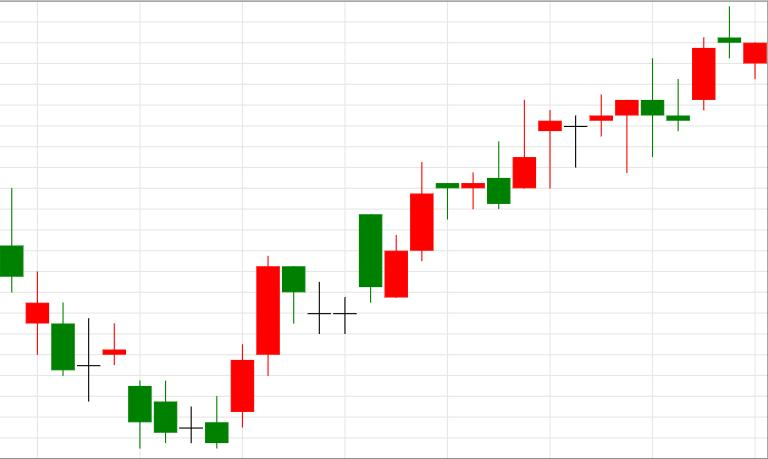shooting_star_fall: (385, 100, 536, 299), (385, 141, 510, 299)
